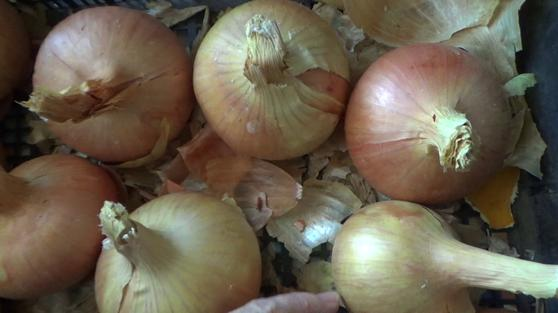onion: (333, 38, 518, 194), (192, 9, 354, 159), (86, 186, 264, 313), (332, 204, 471, 313)
